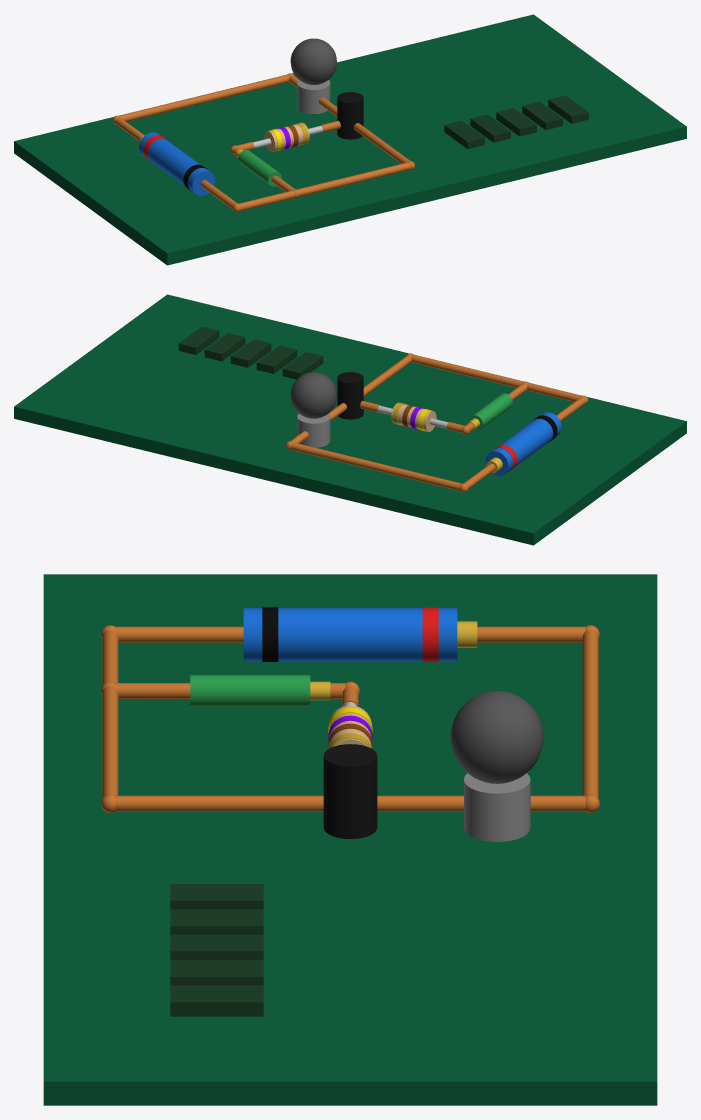
Rendered from rangkaian_transistor.glb.
The picture shows the model from 3 angles, top to bottom: view 1: azimuth 30°, elevation 25°; view 2: azimuth 150°, elevation 25°; view 3: azimuth 270°, elevation 25°; orthographic projection. The views are drawn at different scales.
Bounding box in the file's own units: 0.9 × 0.13 × 0.46.
